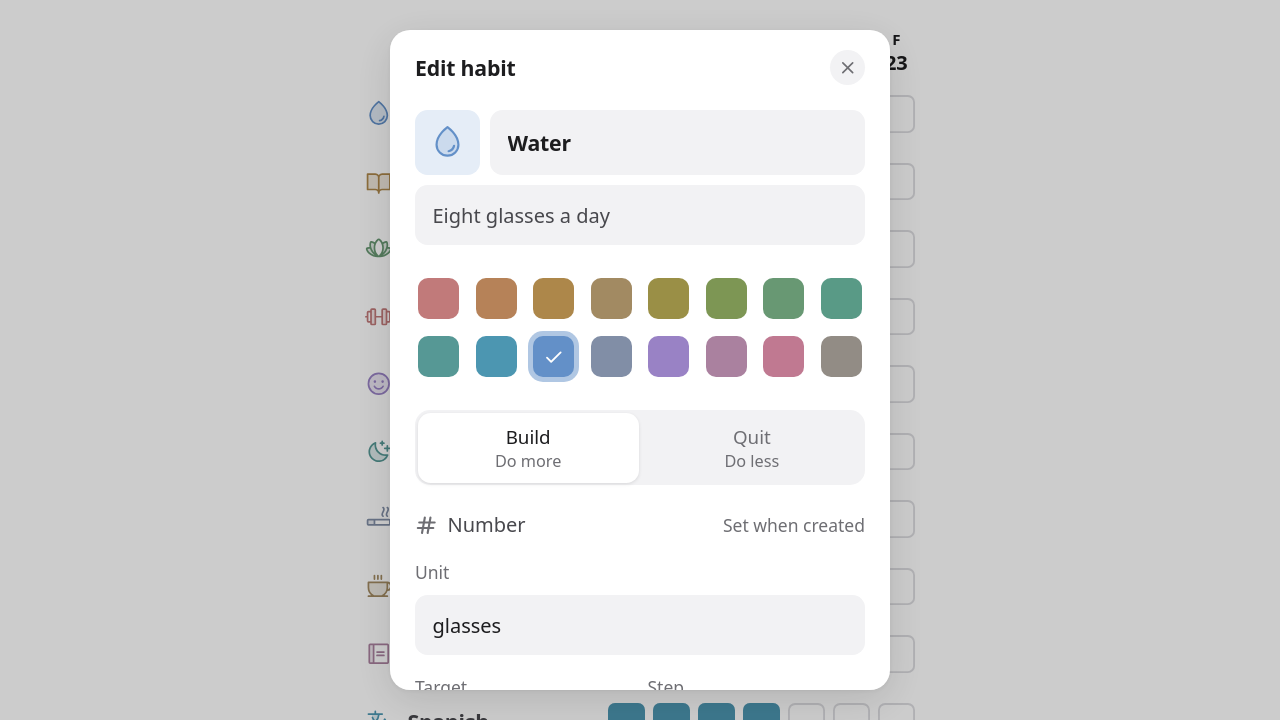
it: edit › a value that is not valid is not saved; the habit keeps the last valid one
The width and height of the screenshot is (1280, 720).
Clear the field named "Name": (678, 142) [490,110,865,175]
(page scrolled)
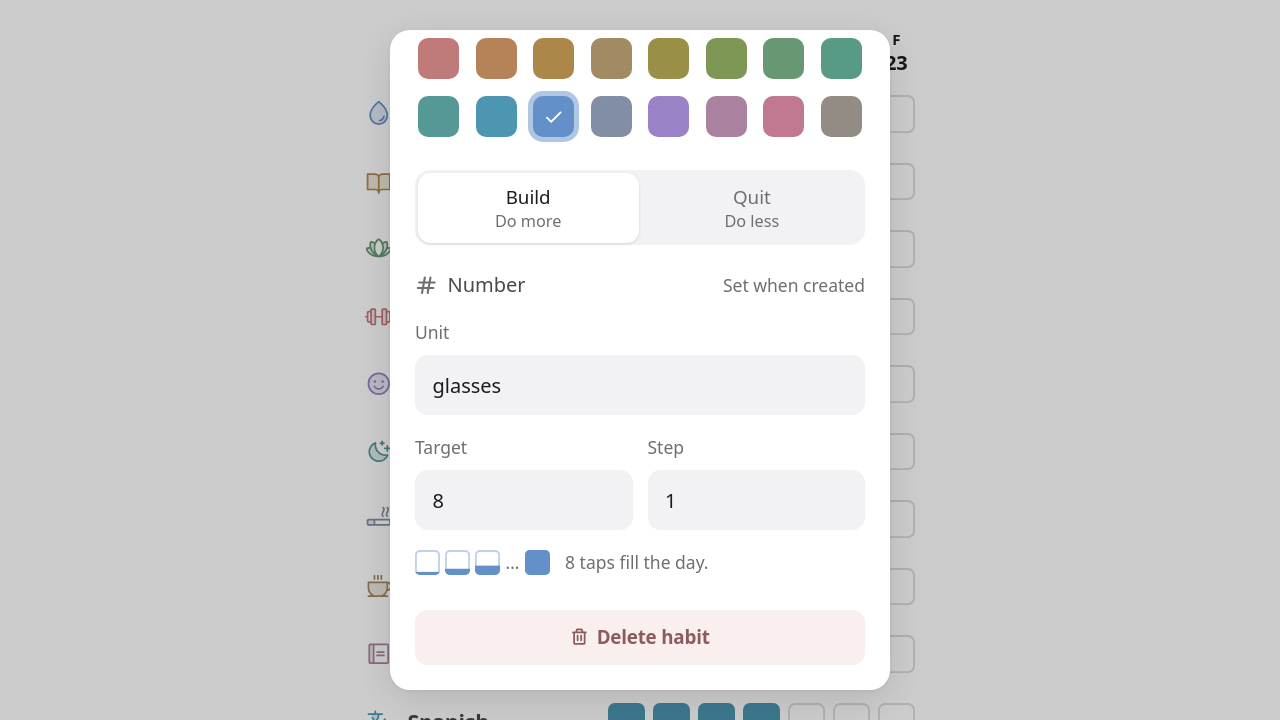
In the field labelled "Step": (756, 500) [648,470,865,530], type "0"
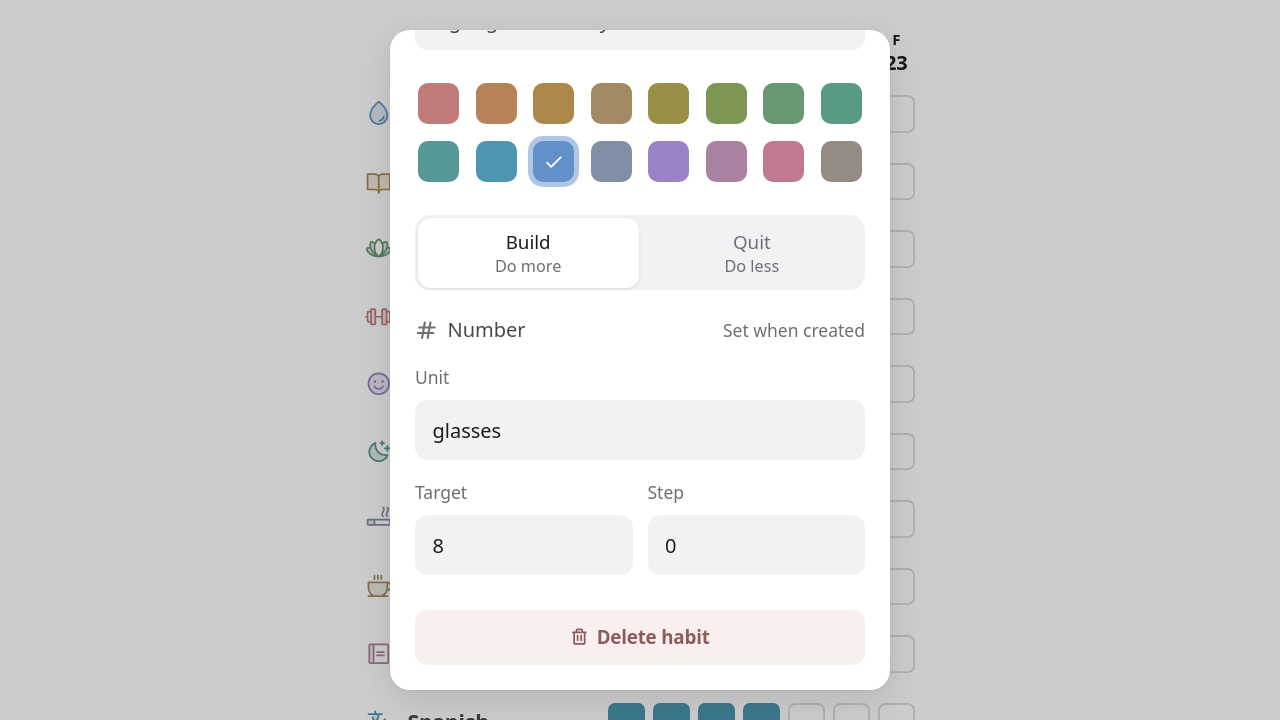
Leave the field labelled "Step", box [648,515,865,575]
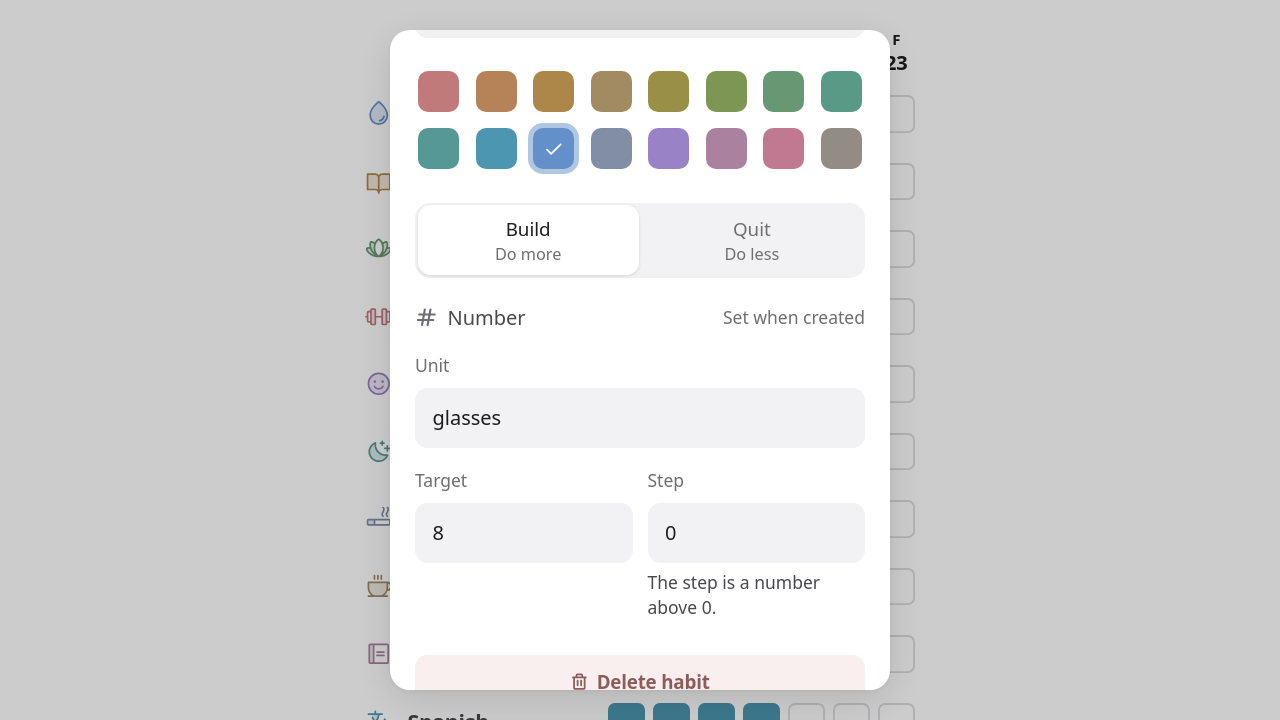
Check: the text "The step is a number above 0." is shown, box [648,570,820,619]
